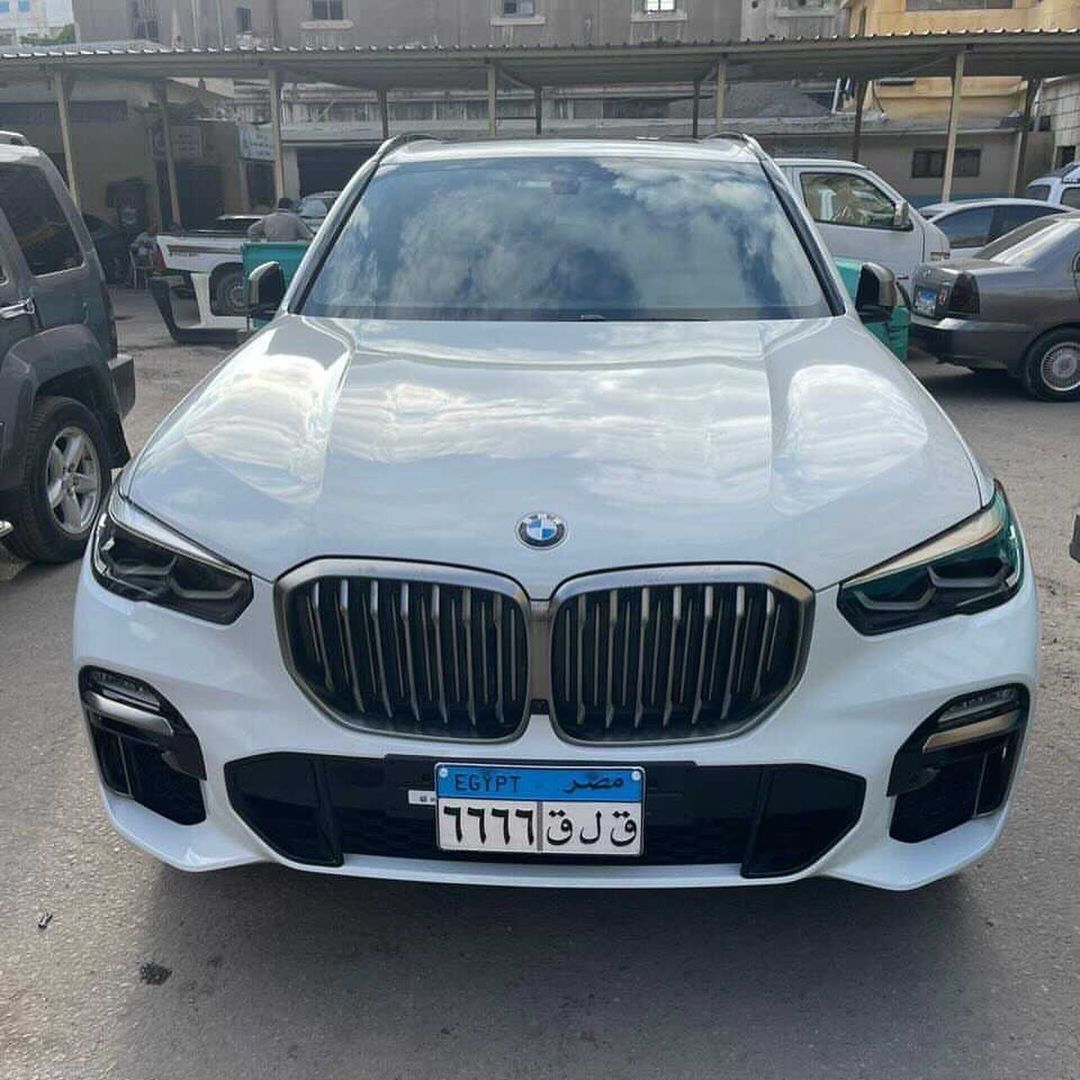carpl: (404, 745, 664, 879)
